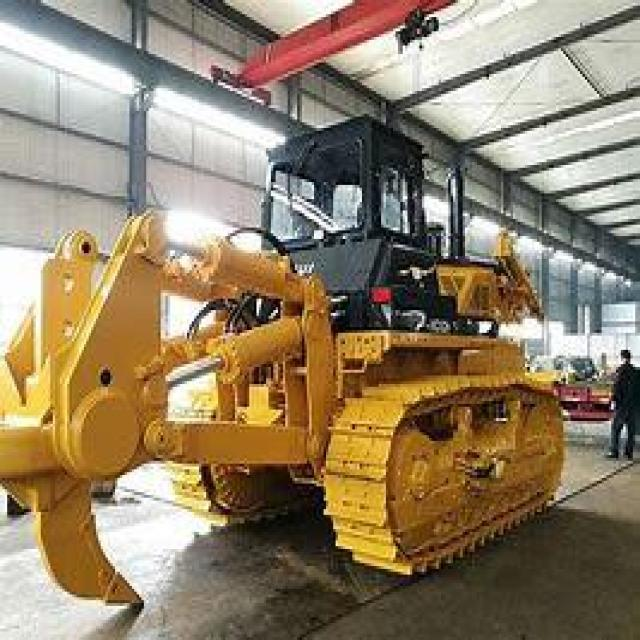buldozerpayloadergrader: (12, 102, 578, 623)
